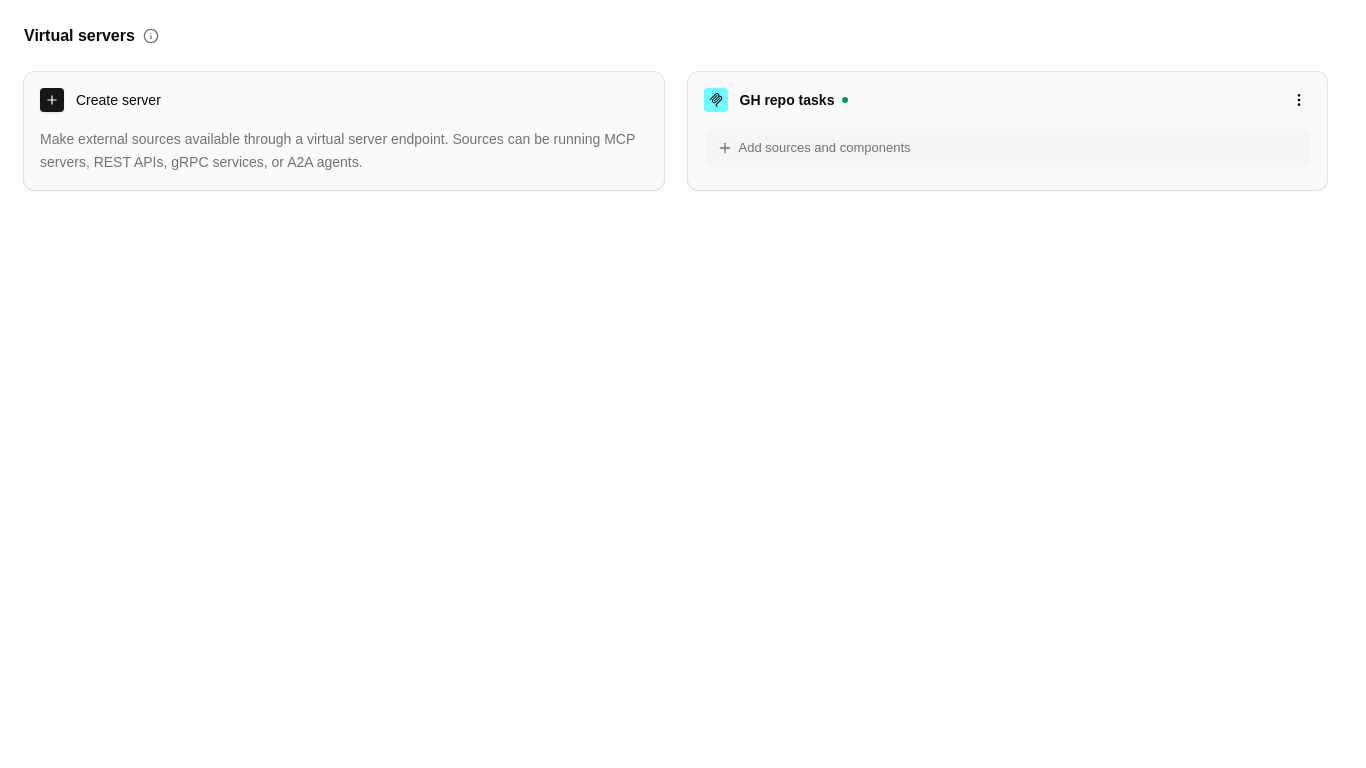
Test: Gateways › removes the card from the grid immediately on confirm (optimistic)
Step 1. Click the button named "Actions for GH repo tasks" → (1299, 100), box [1287,88,1311,112]
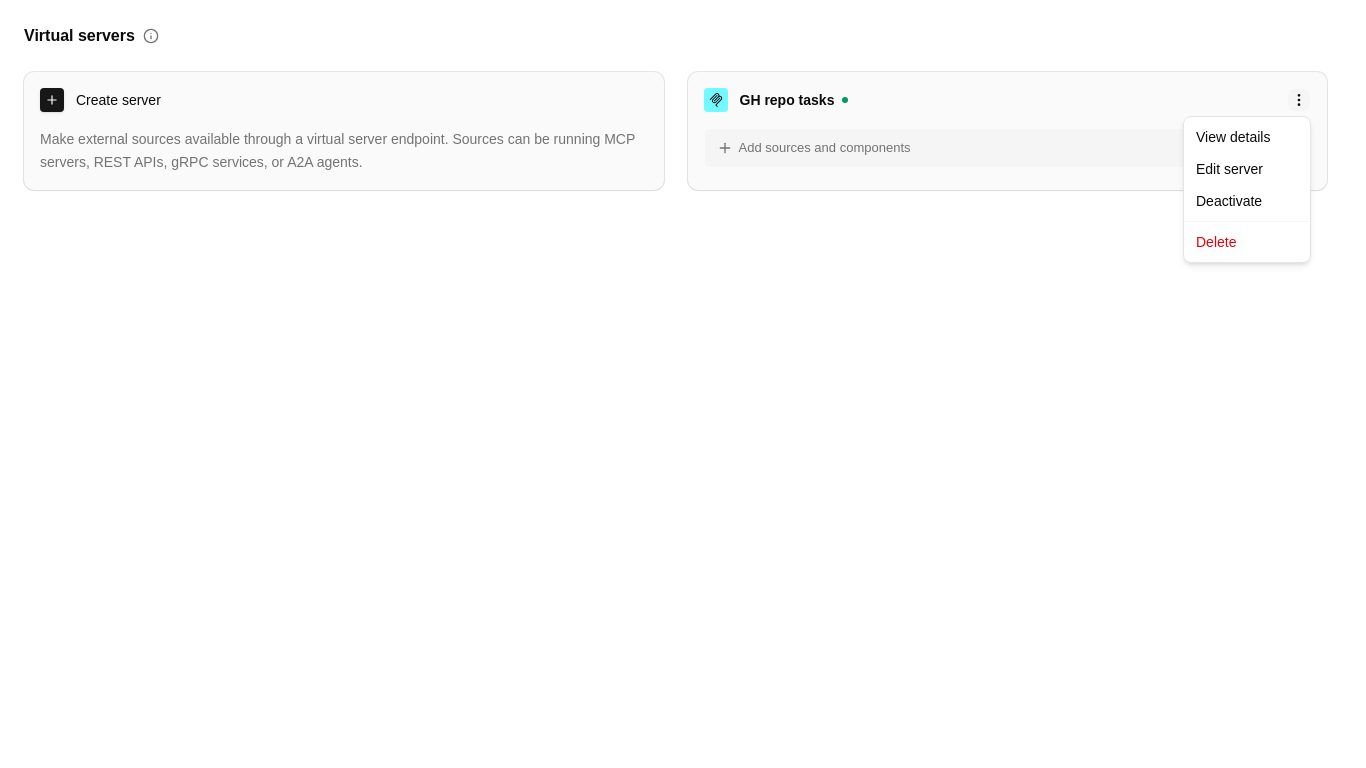
Step 2. Click the menu item "Delete" → (1216, 242), box [1196,234,1236,250]
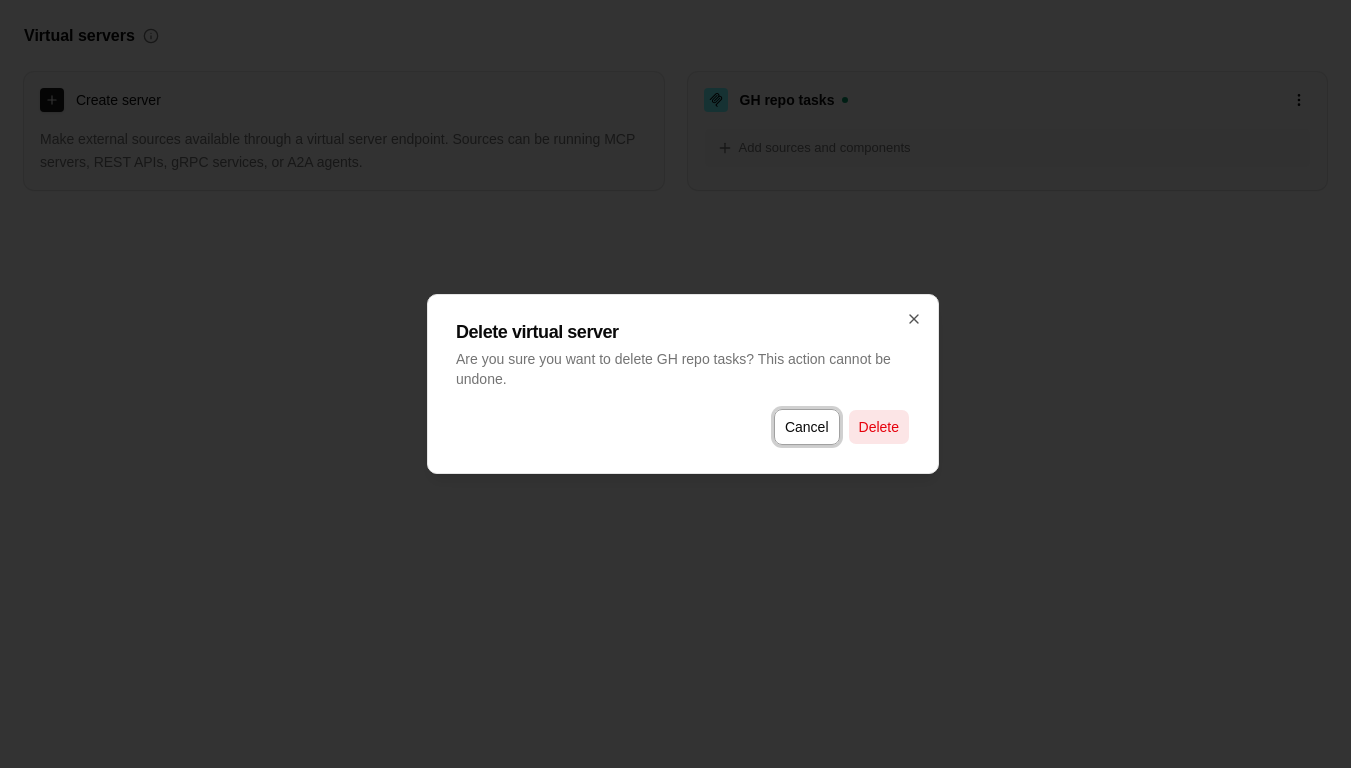
Step 3. Click the button "Delete" → (879, 427), box [848,409,910,445]
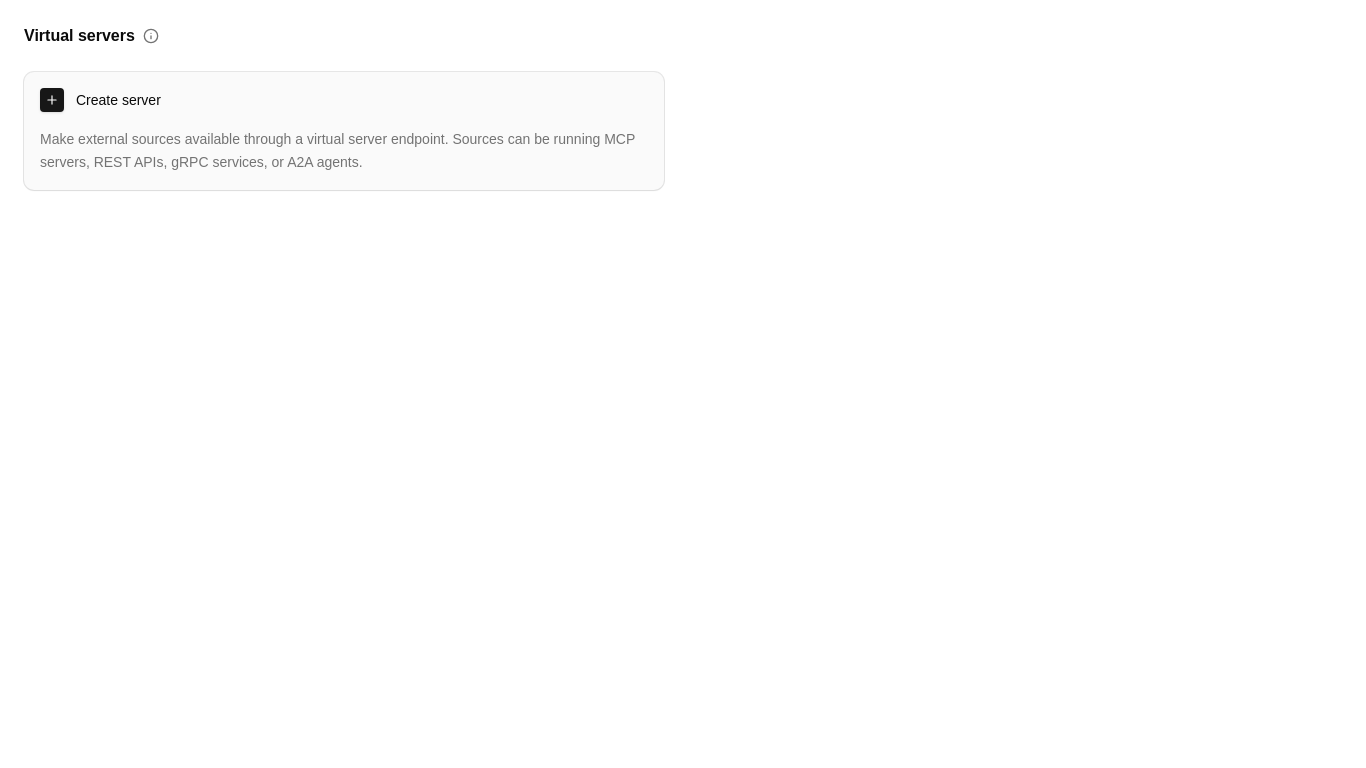
Check: the text "GH repo tasks" is gone
